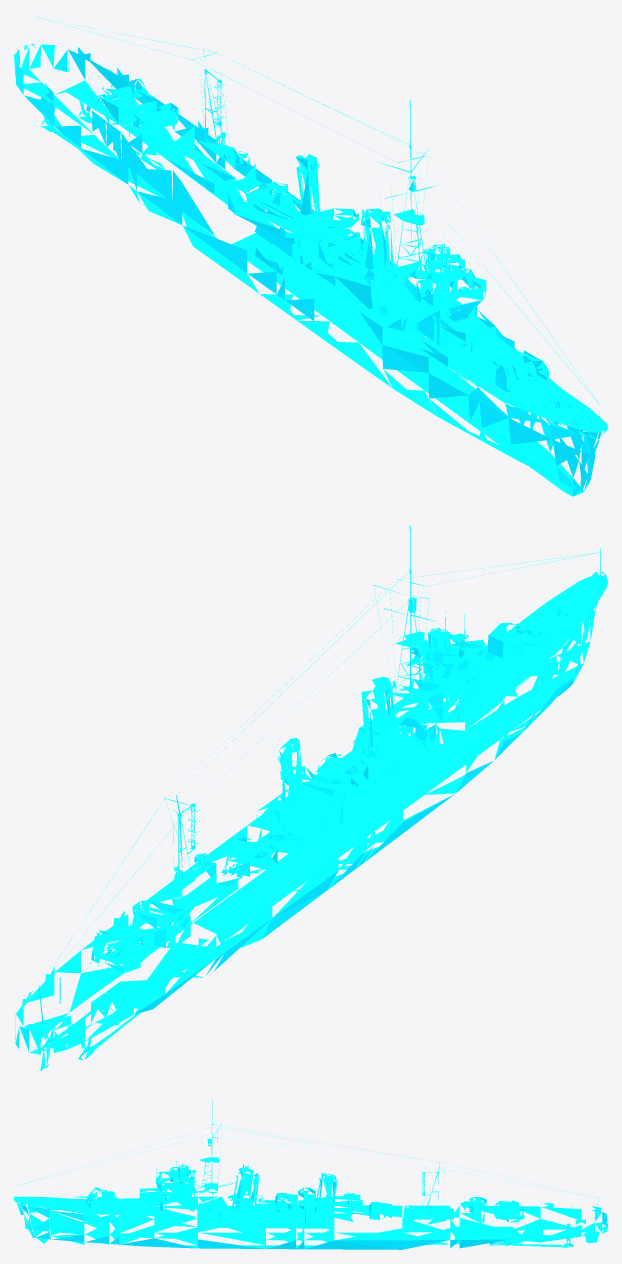
File: PJSD206.glb
3 views of the same model, one above another, from view 1: azimuth 30°, elevation 25°; view 2: azimuth 150°, elevation 25°; view 3: azimuth 270°, elevation 25° (orthographic). The views are drawn at different scales.
Parts seen in each view (by area): view 1: hull, turret; view 2: hull, turret; view 3: hull, turret.
Part boxes in pixels (left/top/right/bottom): hull: left=14, top=15, right=607, bottom=496; turret: left=89, top=76, right=552, bottom=394; hull: left=15, top=525, right=607, bottom=1070; turret: left=89, top=612, right=552, bottom=968; hull: left=14, top=1100, right=607, bottom=1249; turret: left=71, top=1187, right=539, bottom=1219.
Bounding box in the file's own units: 0.6596 × 1.93 × 7.17.
